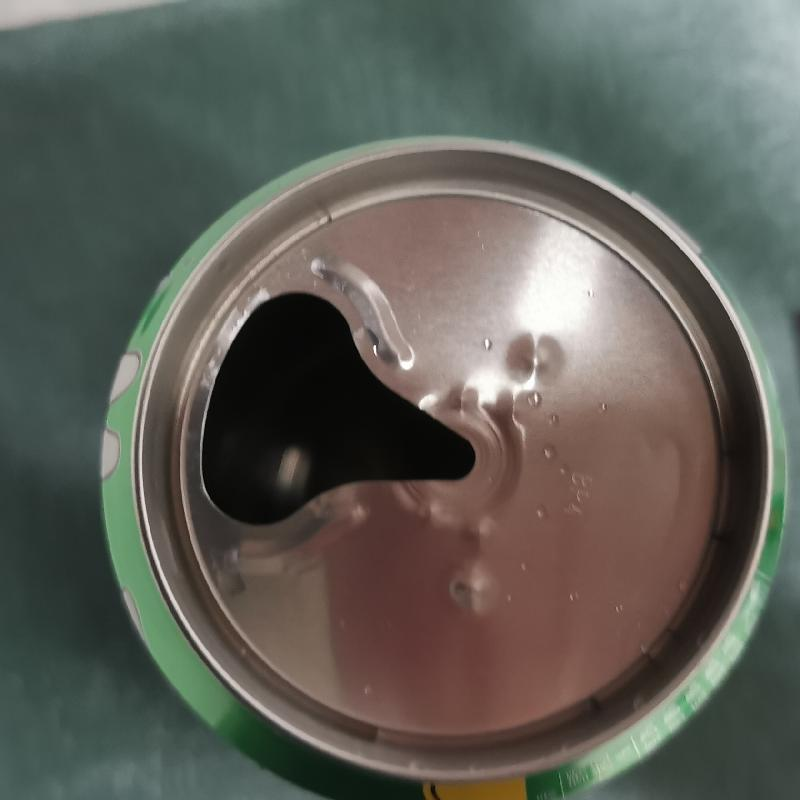cans: (98, 131, 796, 799)
